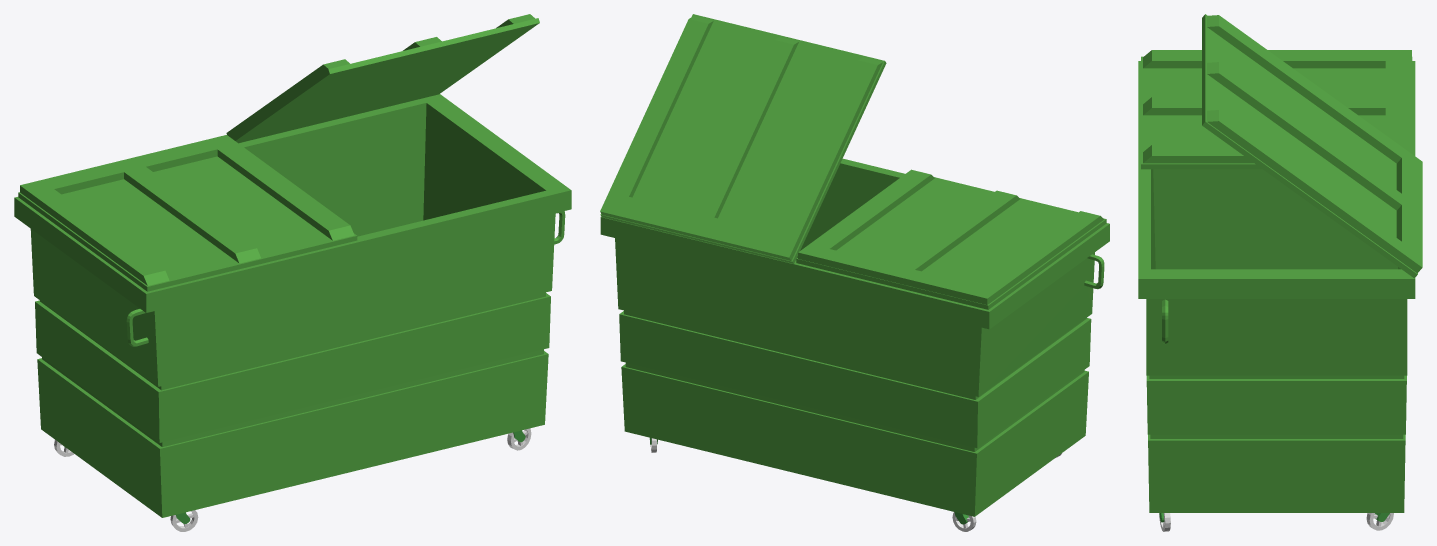
Rendered from RubbishBinStart.fbx.
3 views of the same model, side by side, from view 1: azimuth 30°, elevation 25°; view 2: azimuth 150°, elevation 25°; view 3: azimuth 270°, elevation 25° (orthographic). The views are drawn at different scales.
Parts seen in each view (by area): view 1: Cube, Cube.005, Cube.006; view 2: Cube, Cube.006, Cube.005; view 3: Cube, Cube.006, Cube.005.
Part boxes in pixels (left/top/right/bottom): Cube: left=14, top=94, right=571, bottom=517; Cube.005: left=18, top=135, right=357, bottom=291; Cube.006: left=226, top=14, right=539, bottom=143; Cube: left=600, top=158, right=1109, bottom=516; Cube.006: left=600, top=14, right=886, bottom=263; Cube.005: left=796, top=169, right=1106, bottom=309; Cube: left=1138, top=61, right=1415, bottom=512; Cube.006: left=1202, top=14, right=1422, bottom=278; Cube.005: left=1141, top=50, right=1412, bottom=169.
Bounding box in the file's own units: 790 × 702 × 422.
